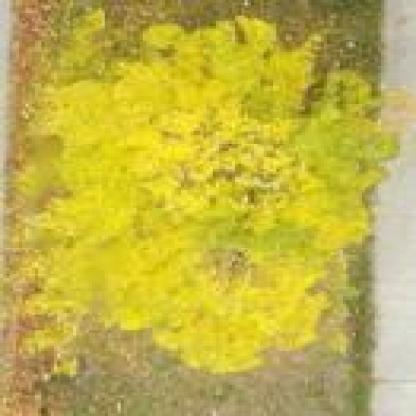Deciduous Tree: (22, 19, 397, 362)
